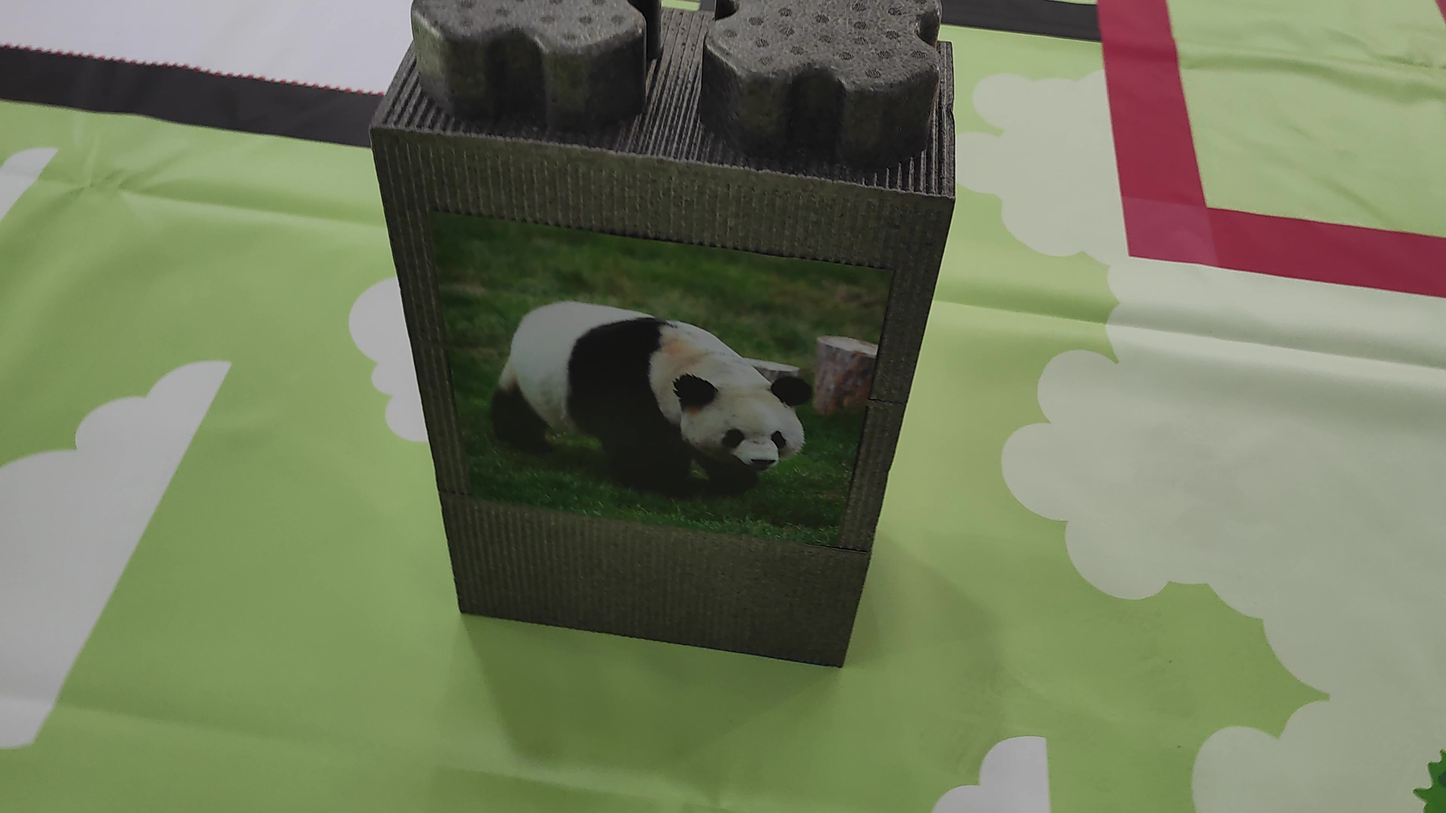panda: (469, 256, 831, 516)
